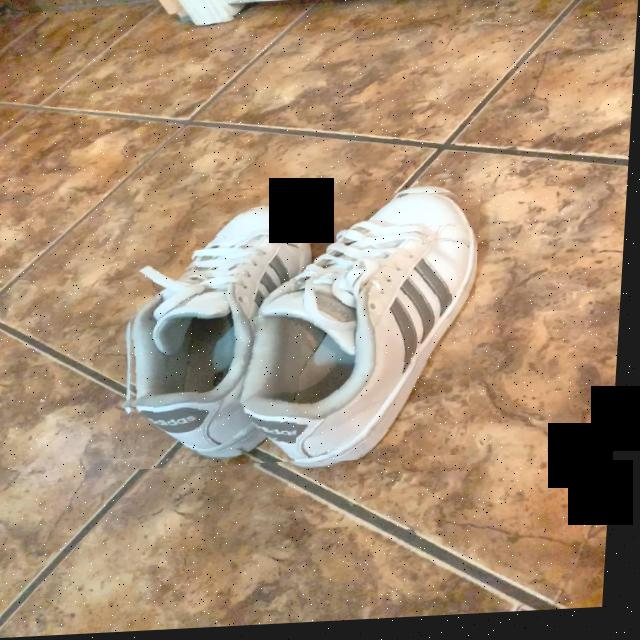shoe: (247, 197, 481, 467), (134, 211, 311, 468)
